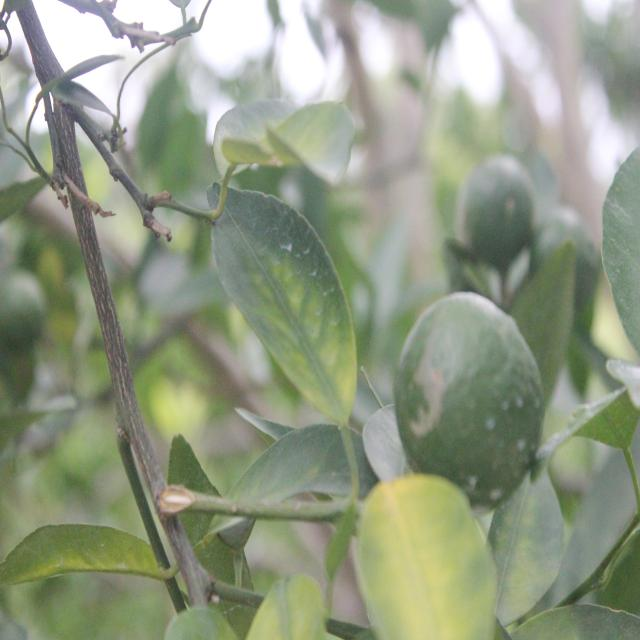greening: (235, 215, 352, 407), (363, 476, 489, 639)
